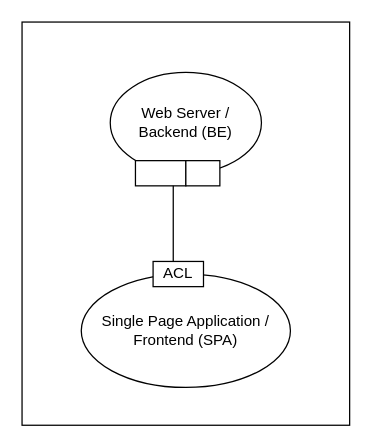
This 372x447 diagram has some shape labels left out. The shapes that lost their labels are listed below. From the top down, each one's centre as x and y in pixels, then its label:
At [160,172]: "OHS".
At [202,172]: "PL".
